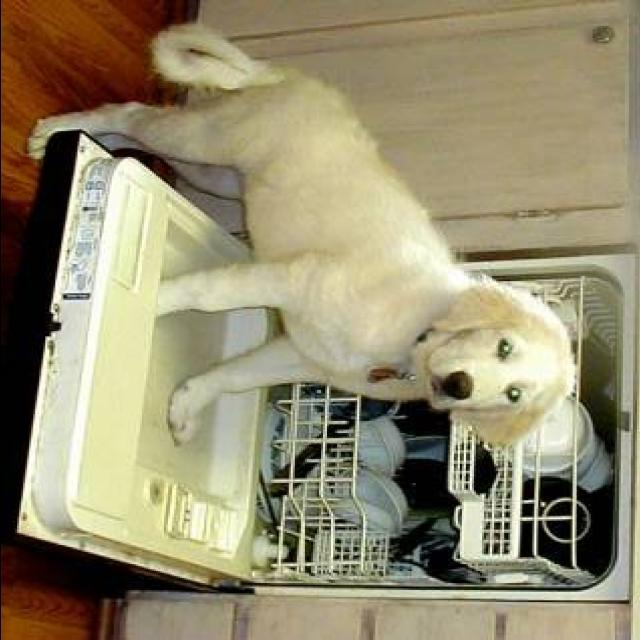dog: (0, 16, 584, 467)
